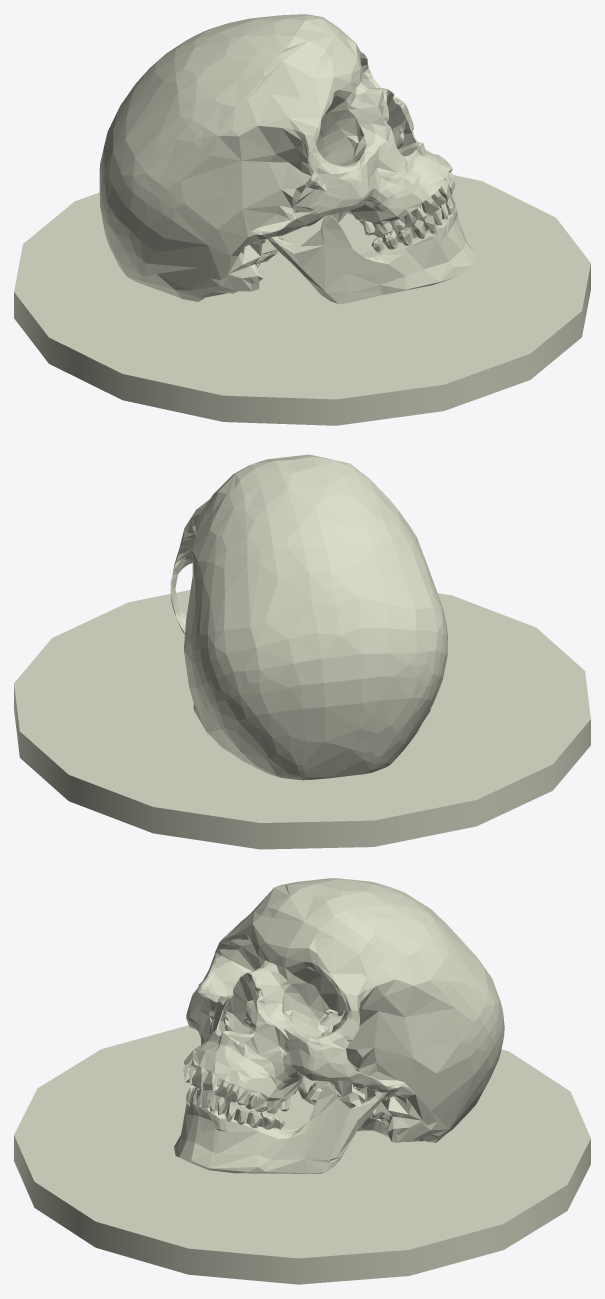
File: skull.fbx
The picture shows the model from 3 angles, top to bottom: view 1: azimuth 30°, elevation 25°; view 2: azimuth 150°, elevation 25°; view 3: azimuth 270°, elevation 25°; orthographic projection.
Visible parts, largest first — view 1: platform_geo, skull_geo; view 2: platform_geo, skull_geo; view 3: platform_geo, skull_geo.
Part boxes in pixels (x1=…): platform_geo: x1=14, y1=175, x2=590, y2=425; skull_geo: x1=99, y1=14, x2=476, y2=304; platform_geo: x1=14, y1=590, x2=590, y2=849; skull_geo: x1=170, y1=454, x2=447, y2=780; platform_geo: x1=14, y1=1025, x2=590, y2=1284; skull_geo: x1=174, y1=878, x2=504, y2=1173.
Bounding box in the file's own units: 8.94 × 4.85 × 8.94.
